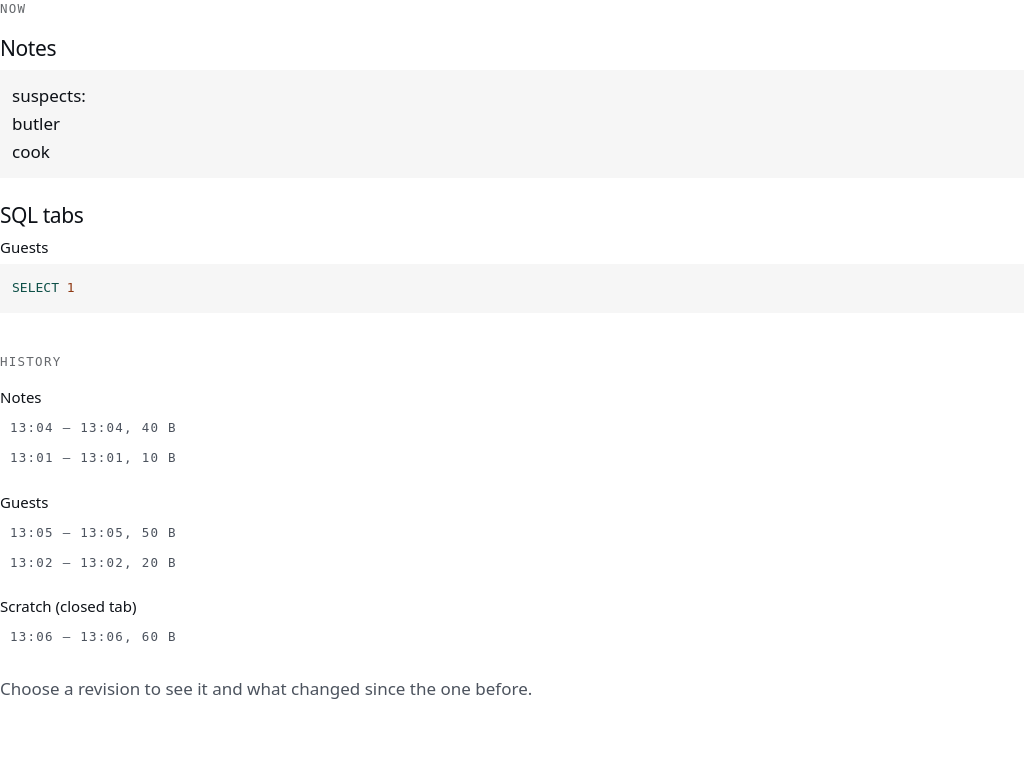
the history › a revision shows what changed since the previous one of the same document
Click the button "13:04 – 13:04, 40 B".
click(93, 428)  # box [0,415,1023,442]
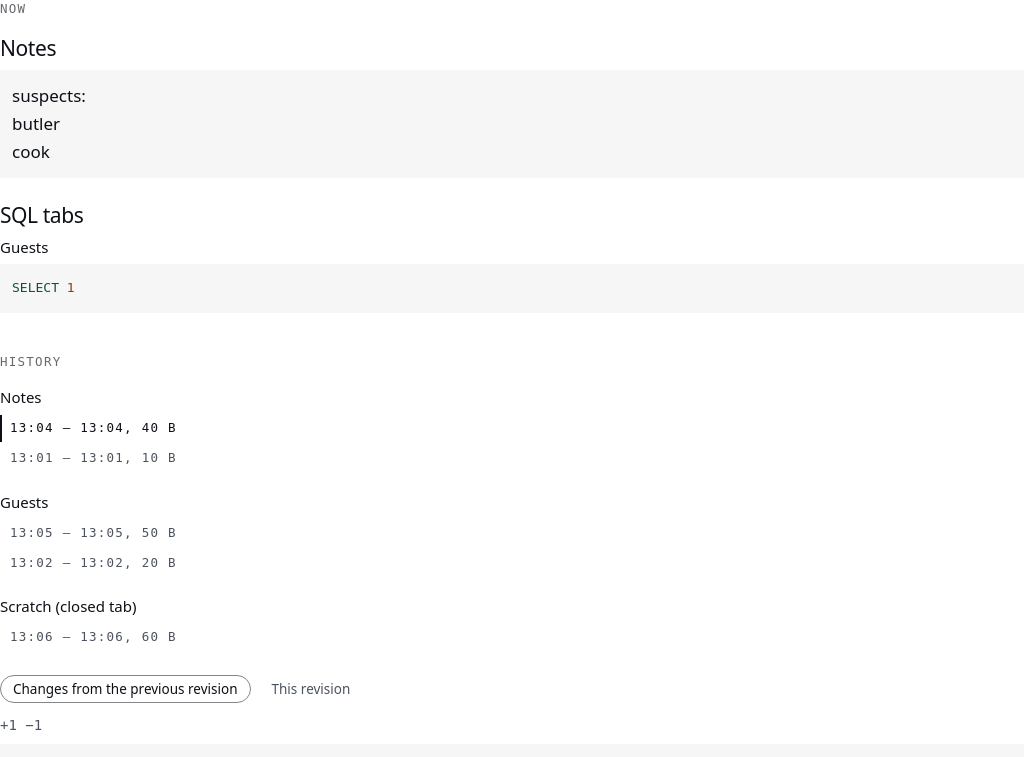
Result: the text "+1 −1" is shown at [0,715,42,736]
